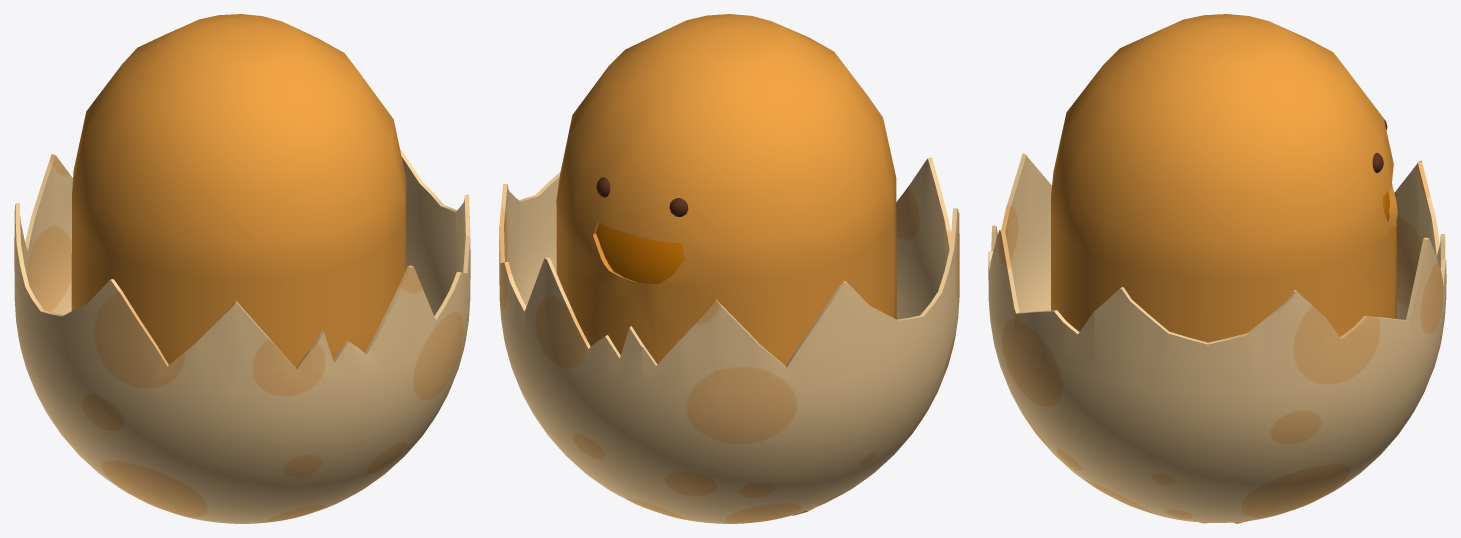
File: sino1_0528.fbx
The picture shows the model from 3 angles, left to right: view 1: azimuth 30°, elevation 25°; view 2: azimuth 150°, elevation 25°; view 3: azimuth 270°, elevation 25°; orthographic projection.
Parts seen in each view (by area): view 1: Capsule, Capsule__Extrude__1; view 2: Capsule, Capsule__Extrude__1, capsule; view 3: Capsule, Capsule__Extrude__1.
Boxes of the visible parts, x1=… form: Capsule: x1=71, y1=14, x2=406, y2=367; Capsule__Extrude__1: x1=14, y1=148, x2=470, y2=523; Capsule: x1=556, y1=14, x2=896, y2=515; Capsule__Extrude__1: x1=499, y1=157, x2=959, y2=523; capsule: x1=596, y1=222, x2=684, y2=283; Capsule: x1=1051, y1=14, x2=1397, y2=523; Capsule__Extrude__1: x1=988, y1=153, x2=1446, y2=522.
Size of the model in its own units: 23.13 by 26.29 by 23.13.
Materials: 4 (1 with a texture image).
